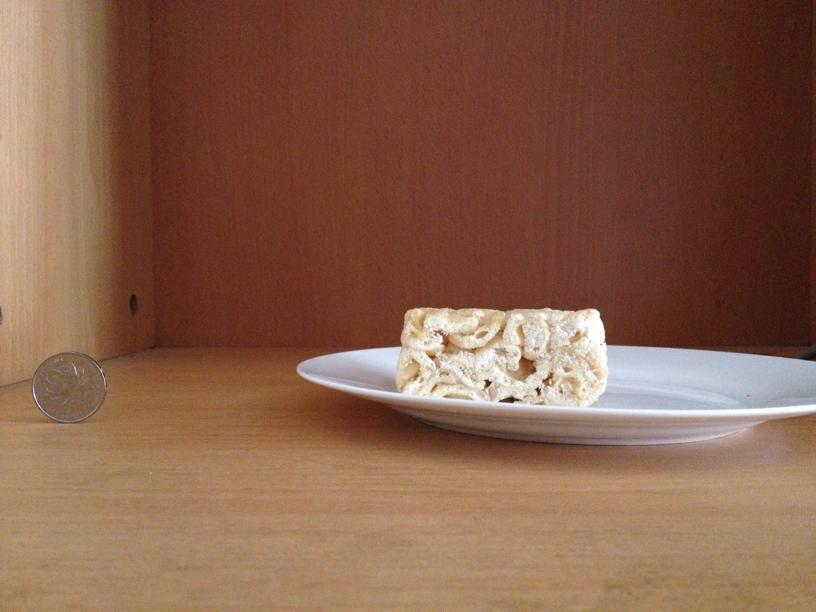coin: (24, 351, 107, 422)
sachima: (392, 300, 607, 409)
